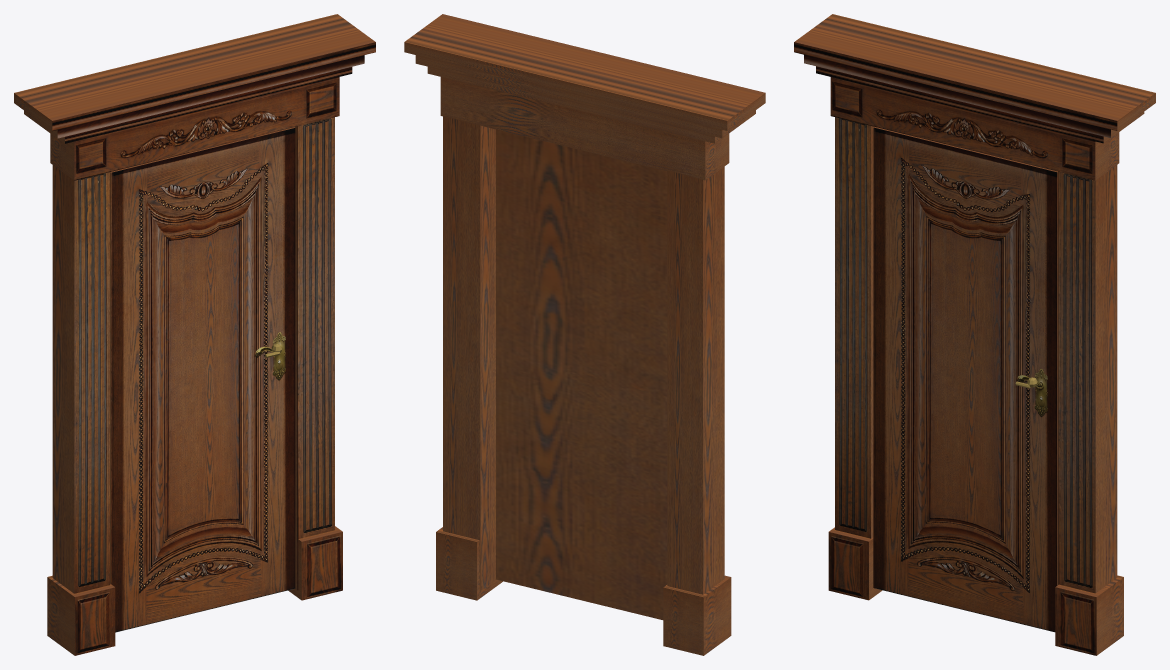
File: antique-door-clean-0.15.23.glb
The picture shows the model from 3 angles, left to right: view 1: azimuth 30°, elevation 25°; view 2: azimuth 150°, elevation 25°; view 3: azimuth 330°, elevation 25°; orthographic projection.
Visible parts, largest first — view 1: Antique Door Leaf - hinge pivot, Antique Door Frame; view 2: Antique Door Frame, Antique Door Leaf - hinge pivot; view 3: Antique Door Leaf - hinge pivot, Antique Door Frame.
Boxes of the visible parts, box(x1,y1,x2,y2) form: Antique Door Leaf - hinge pivot: box(110, 127, 295, 632); Antique Door Frame: box(14, 14, 375, 655); Antique Door Frame: box(404, 14, 765, 655); Antique Door Leaf - hinge pivot: box(496, 129, 667, 619); Antique Door Leaf - hinge pivot: box(873, 126, 1058, 632); Antique Door Frame: box(794, 14, 1155, 655).
Size of the model in its own units: 1.56 by 2.51 by 0.32.
2 materials, 1 textured.
